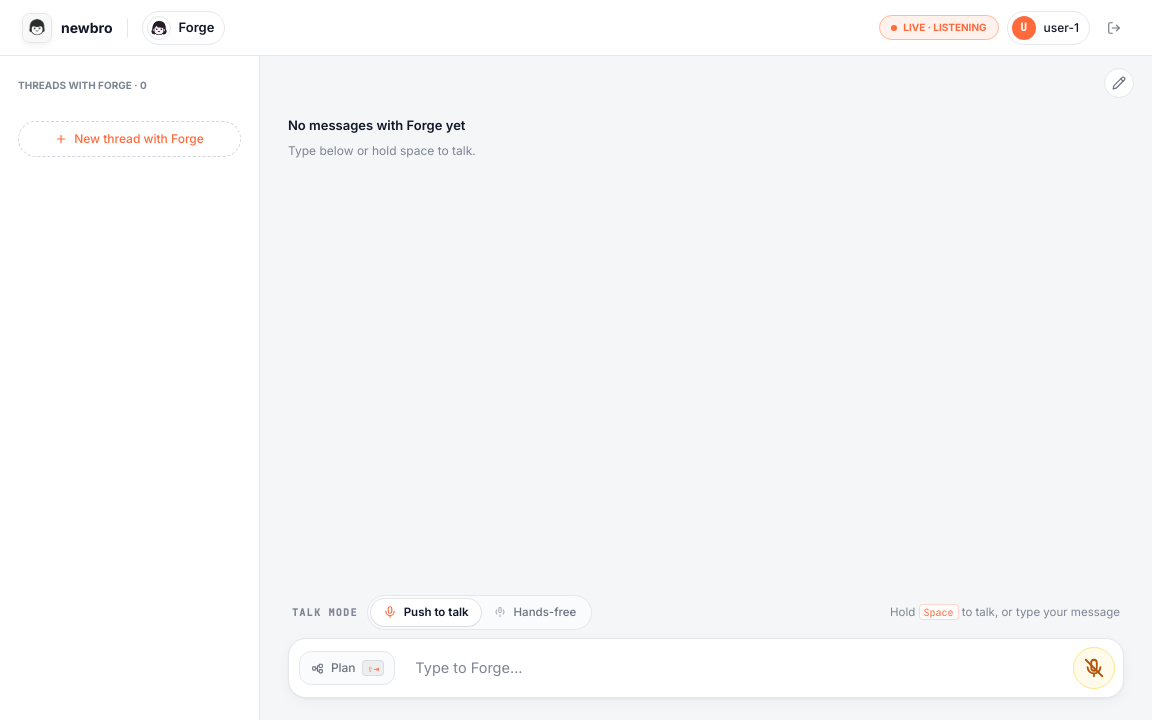
Test: Newbro artboard shell › renames a Bro from desktop detail and refreshes the shell snapshot
The width and height of the screenshot is (1152, 720).
Click the button named "Edit Bro": (1119, 83) [1104, 68, 1134, 98]
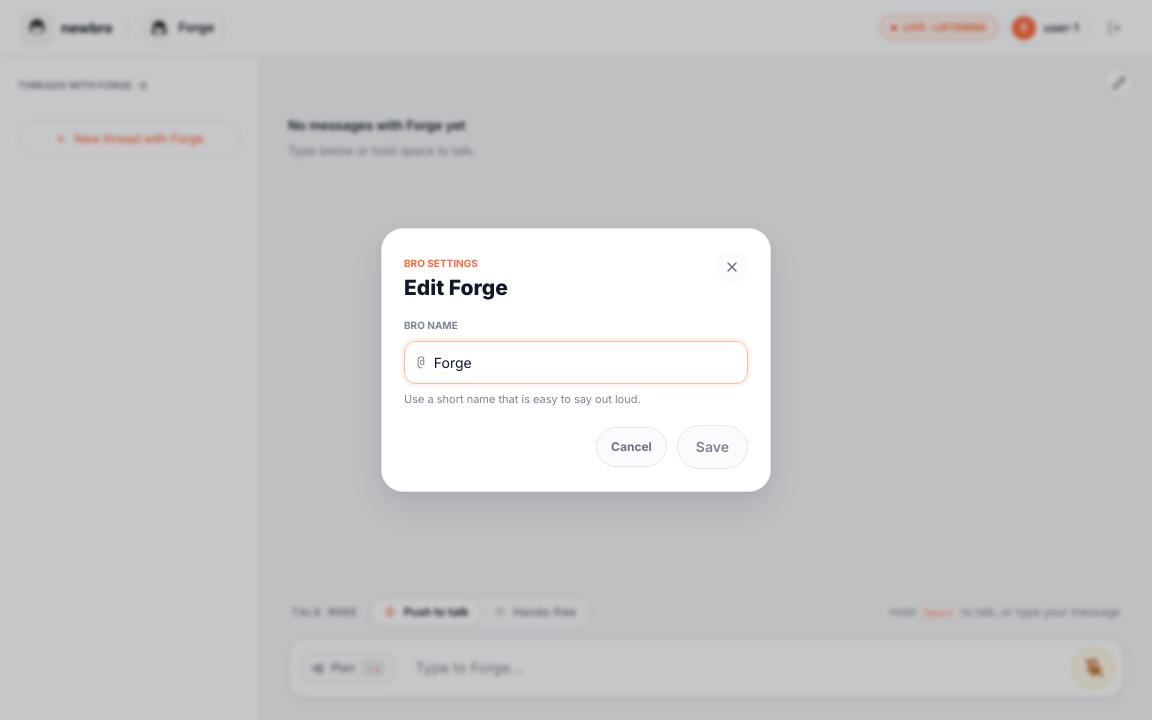
Replace the text in the field labelled "BRO NAME" with "Scout": (584, 362) [434, 352, 735, 373]
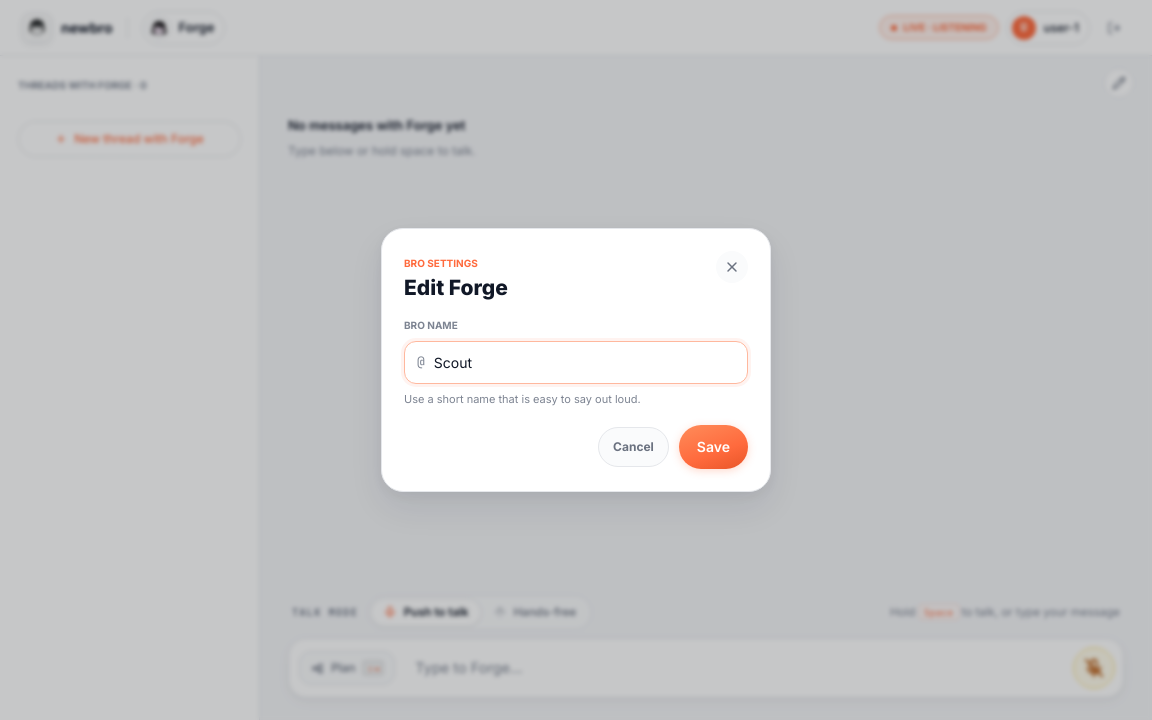
Click the button "Save": (713, 447) [679, 425, 748, 469]
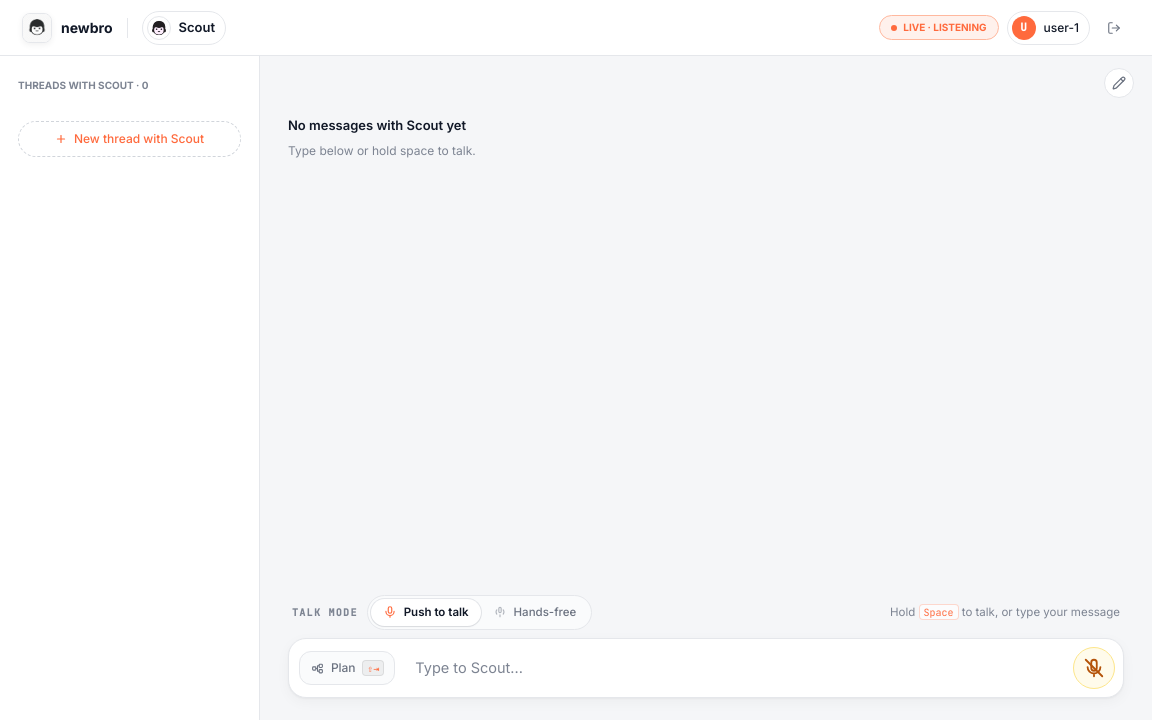
Expected: the dialog is gone
